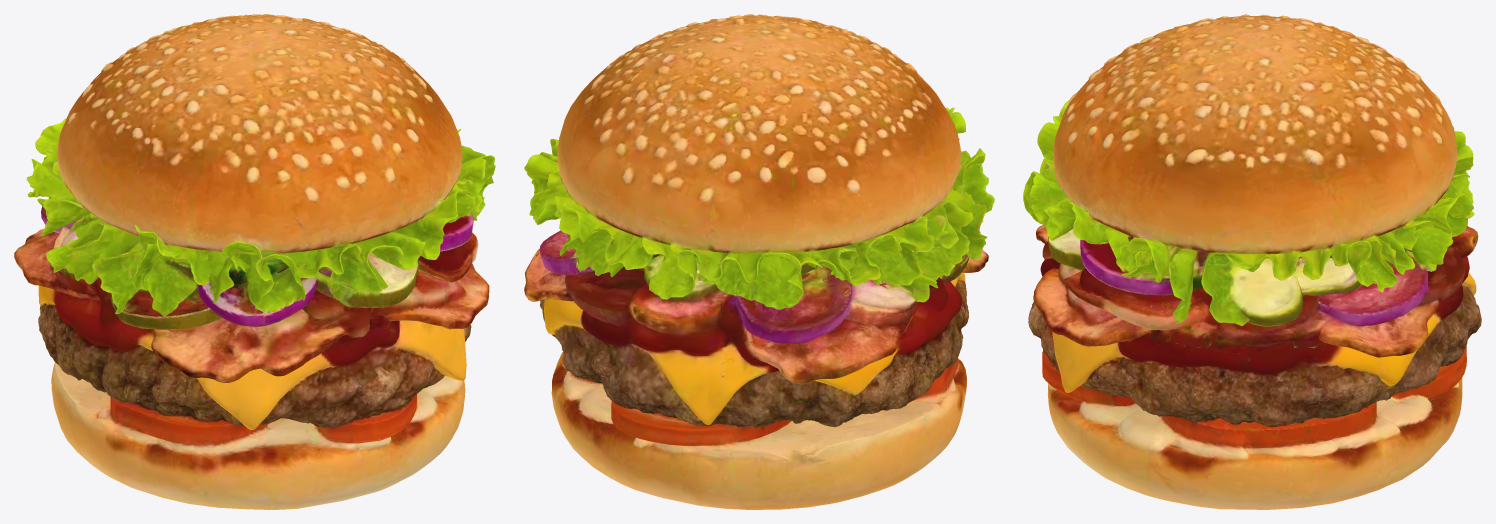
File: burger-mobile-q.glb
The picture shows the model from 3 angles, left to right: view 1: azimuth 30°, elevation 25°; view 2: azimuth 150°, elevation 25°; view 3: azimuth 270°, elevation 25°; orthographic projection.
Parts seen in each view (by area): view 1: Mesh_0.002; view 2: Mesh_0.002; view 3: Mesh_0.002.
Boxes of the visible parts, <box> form: Mesh_0.002: <box>14,14,495,509</box>; Mesh_0.002: <box>524,14,994,509</box>; Mesh_0.002: <box>1023,14,1481,509</box>.
Size of the model in its own units: 0.124 by 0.12 by 0.1238.
Materials: 1 (1 with a texture image).
